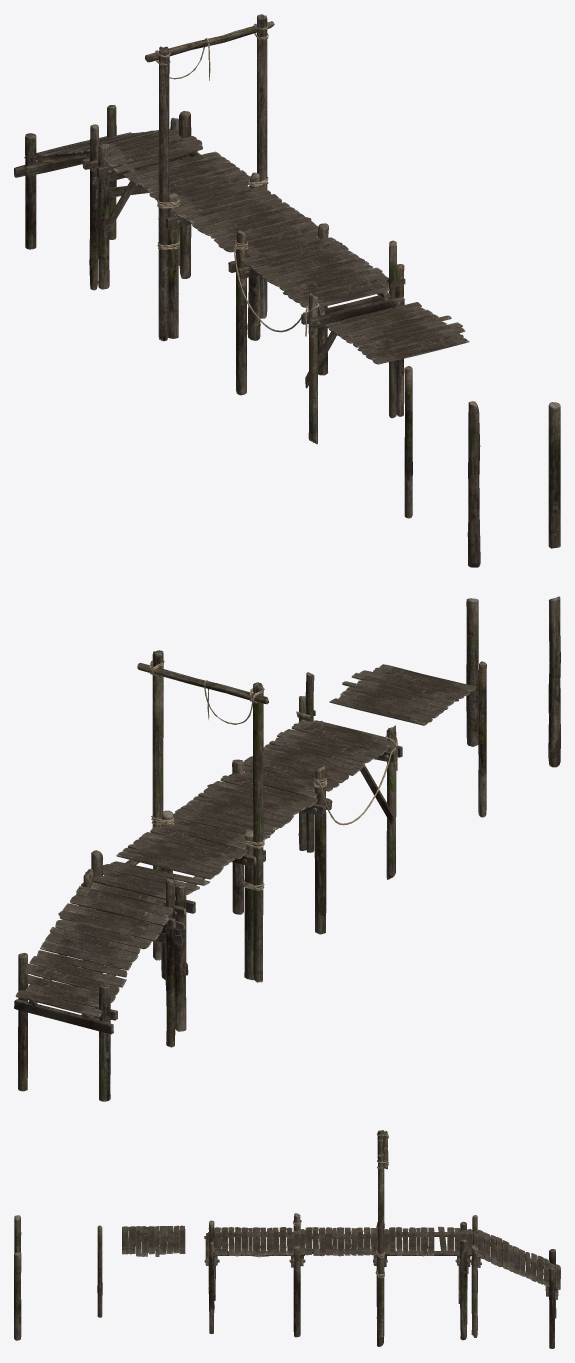
Rendered from pier.glb.
3 views of the same model, one above another, from view 1: azimuth 30°, elevation 25°; view 2: azimuth 150°, elevation 25°; view 3: azimuth 270°, elevation 25° (orthographic). The views are drawn at different scales.
Parts seen in each view (by area): view 1: modular_wooden_pier_section_01, modular_wooden_pier_section_03, modular_wooden_pier_section_02, modular_wooden_pier_section_05, modular_wooden_pier_section_04, modular_wooden_pier_planks, modular_wooden_pier_poles; view 2: modular_wooden_pier_section_04, modular_wooden_pier_section_01, modular_wooden_pier_section_03, modular_wooden_pier_section_02, modular_wooden_pier_section_05, modular_wooden_pier_poles, modular_wooden_pier_planks; view 3: modular_wooden_pier_section_01, modular_wooden_pier_section_04, modular_wooden_pier_section_03, modular_wooden_pier_section_02, modular_wooden_pier_planks, modular_wooden_pier_section_05, modular_wooden_pier_poles.
Part boxes in pixels (left/top/right/bottom): modular_wooden_pier_section_01: left=228, top=223, right=405, bottom=444; modular_wooden_pier_section_03: left=89, top=111, right=250, bottom=289; modular_wooden_pier_section_02: left=158, top=172, right=318, bottom=340; modular_wooden_pier_section_05: left=145, top=14, right=274, bottom=341; modular_wooden_pier_section_04: left=14, top=105, right=179, bottom=290; modular_wooden_pier_planks: left=325, top=302, right=469, bottom=364; modular_wooden_pier_poles: left=404, top=366, right=560, bottom=567; modular_wooden_pier_section_04: left=14, top=868, right=175, bottom=1101; modular_wooden_pier_section_01: left=229, top=672, right=402, bottom=934; modular_wooden_pier_section_03: left=81, top=827, right=247, bottom=1031; modular_wooden_pier_section_02: left=160, top=775, right=317, bottom=980; modular_wooden_pier_section_05: left=137, top=650, right=268, bottom=982; modular_wooden_pier_poles: left=466, top=596, right=560, bottom=817; modular_wooden_pier_planks: left=329, top=664, right=476, bottom=725; modular_wooden_pier_section_01: left=204, top=1213, right=305, bottom=1337; modular_wooden_pier_section_04: left=471, top=1215, right=560, bottom=1348; modular_wooden_pier_section_03: left=376, top=1221, right=473, bottom=1340; modular_wooden_pier_section_02: left=292, top=1222, right=389, bottom=1346; modular_wooden_pier_planks: left=122, top=1225, right=185, bottom=1256; modular_wooden_pier_section_05: left=375, top=1130, right=388, bottom=1337; modular_wooden_pier_poles: left=14, top=1215, right=102, bottom=1340.
Size of the model in its own units: 3.1 by 7.52 by 19.03.
3 materials, 3 textured.
